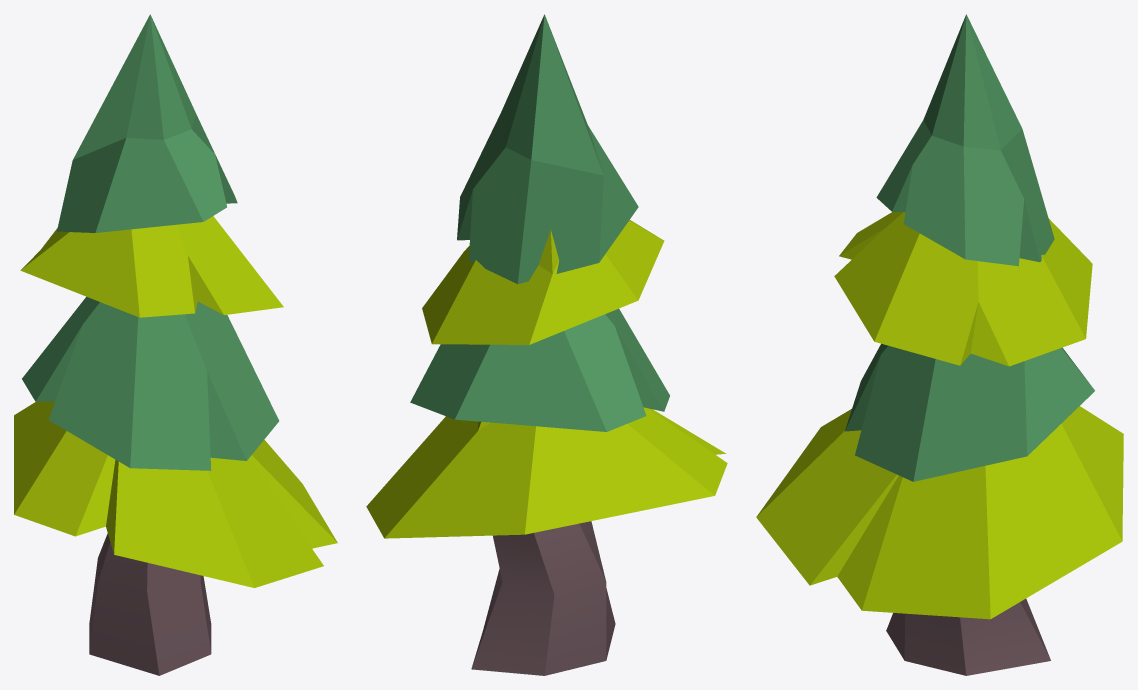
Rendered from Tree1.fbx.
3 renders of one model, left to right at view 1: azimuth 30°, elevation 25°; view 2: azimuth 150°, elevation 25°; view 3: azimuth 270°, elevation 25°, orthographic.
Visible parts, largest first — view 1: Tree1; view 2: Tree1; view 3: Tree1.
Boxes of the visible parts, x1,y1,x2,y2 form: Tree1: (14,14,337,675); Tree1: (366,14,727,675); Tree1: (756,14,1123,675).
Bounding box in the file's own units: 0.5577 × 1.05 × 0.5546.
